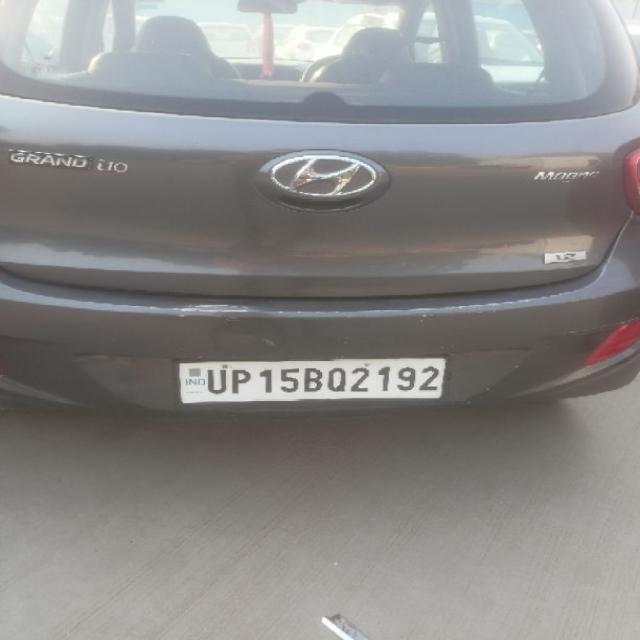license_plate: (176, 356, 447, 404)
